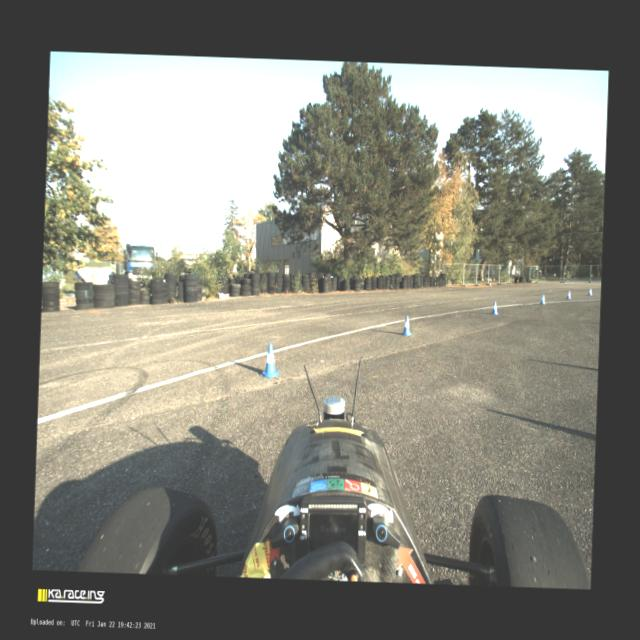blue_cone: (260, 343, 281, 378), (401, 315, 413, 336), (491, 301, 498, 314), (540, 294, 545, 304), (566, 290, 571, 299), (588, 288, 592, 296)
